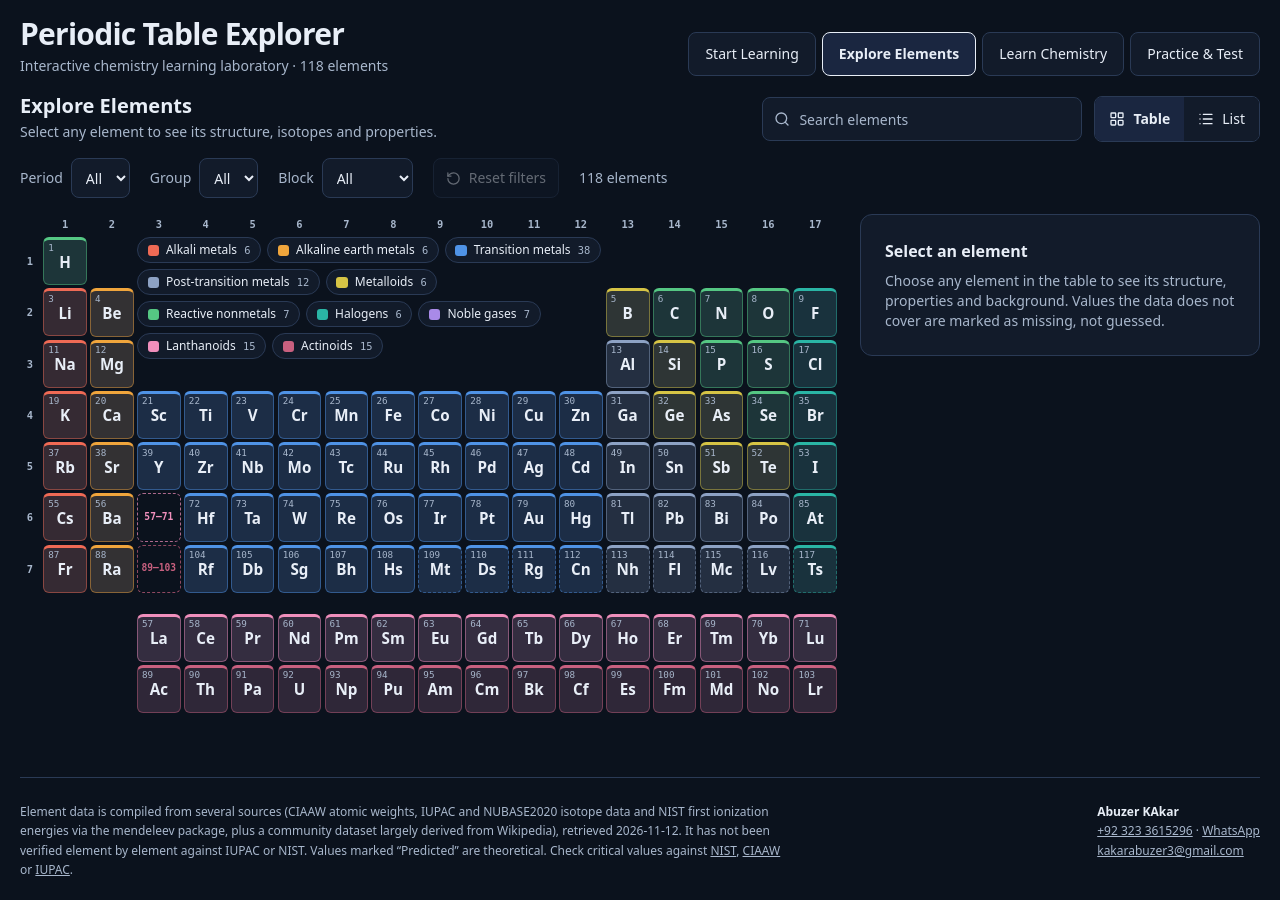
it: glossary › explains a term from the element panel in a dialog, with related terms
Click the button "26 Fe": {"x": 393, "y": 415} [371, 391, 415, 439]
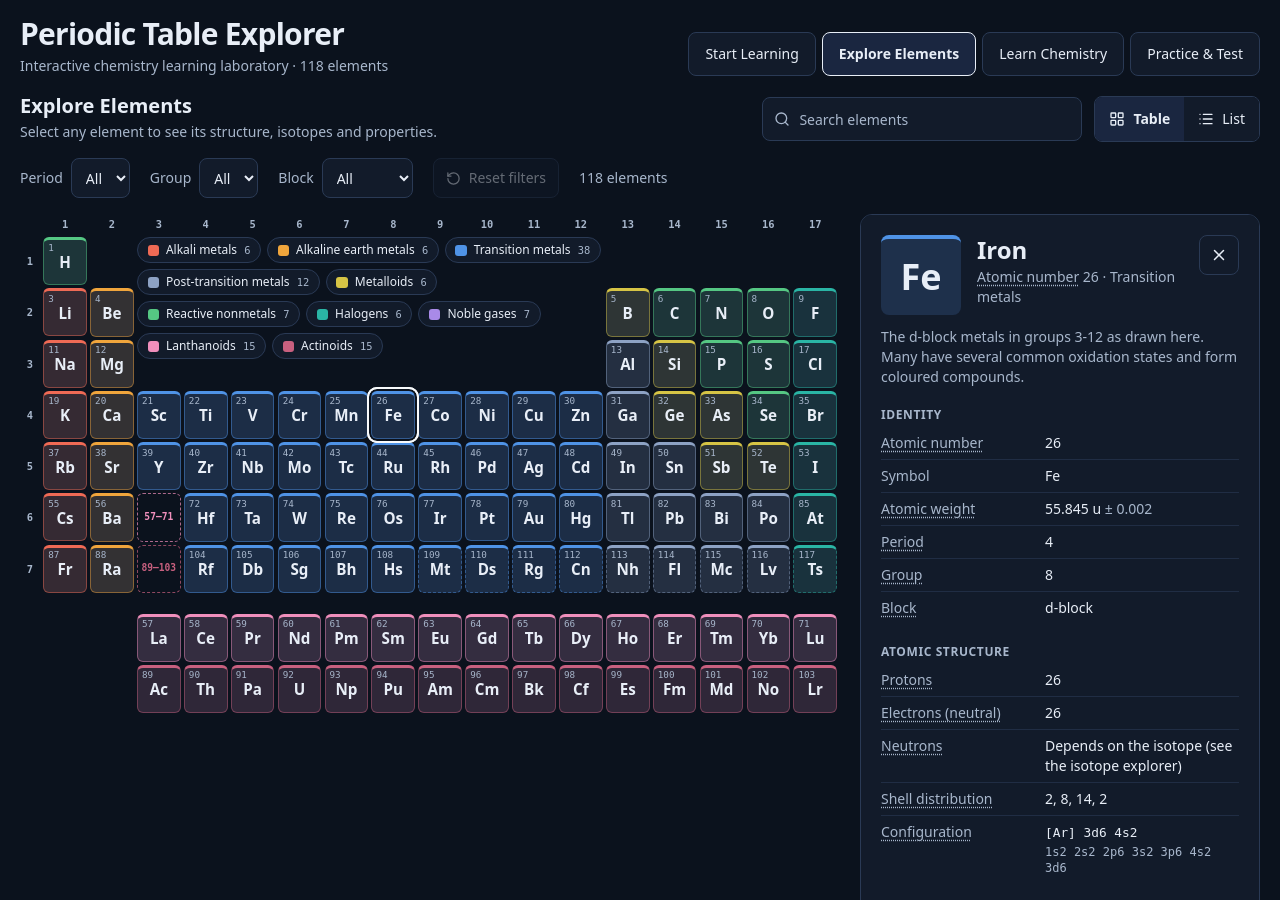
Click the button "Atomic number" below "Iron": {"x": 1028, "y": 277} [977, 267, 1079, 287]
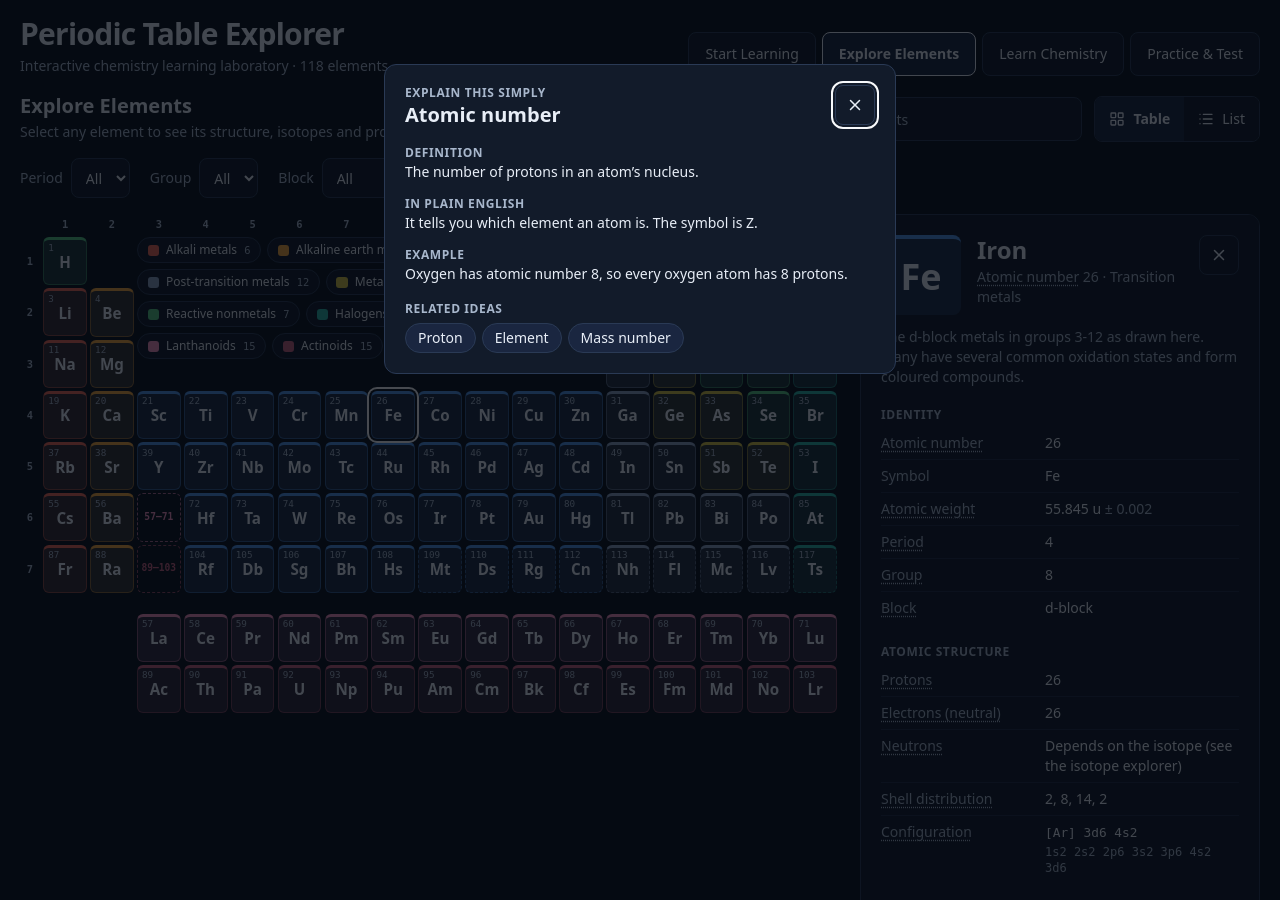
Check: the heading "Atomic number" is shown, box [405, 101, 561, 129]
Check: the dialog shows "The number of protons in an atom", box [405, 162, 699, 181]
Click the button "Proton": {"x": 440, "y": 338} [405, 323, 476, 353]
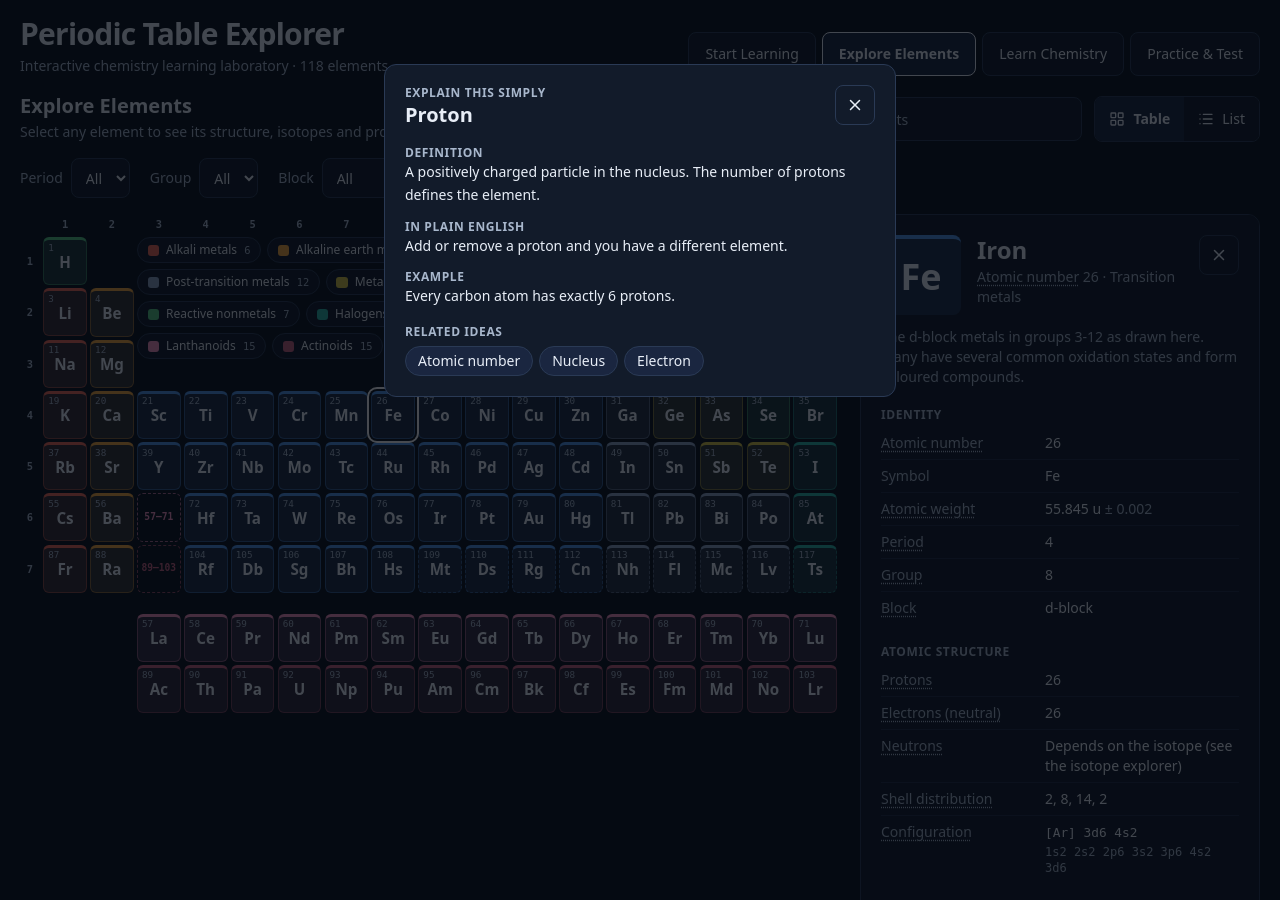
Check: the heading "Proton" is shown, box [405, 101, 473, 128]
